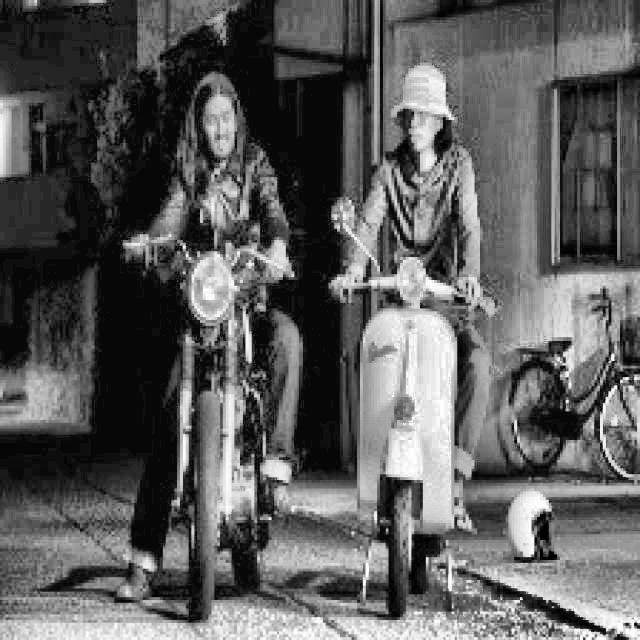motorcycle: (123, 216, 303, 625), (328, 196, 500, 608)
